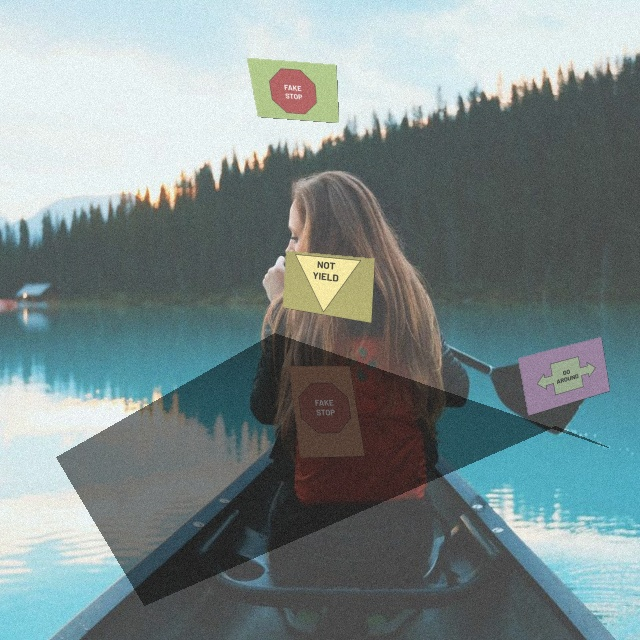FAKE_STOP: (294, 379, 355, 436), (267, 67, 318, 115)
GO_AROUND: (534, 352, 599, 400)
NOT_YIELD: (290, 254, 363, 318)
